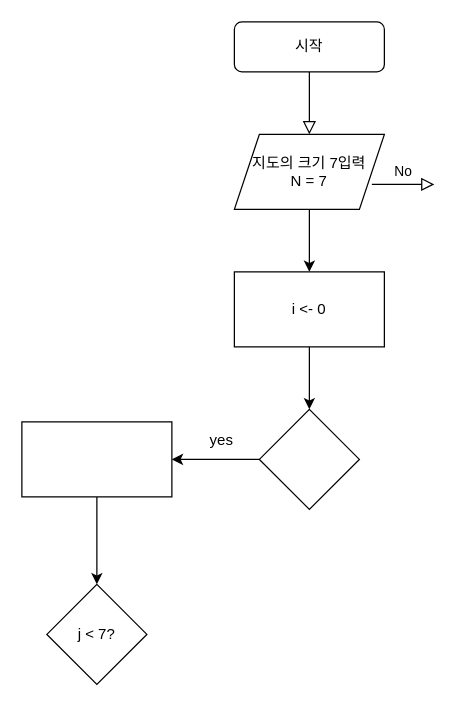
Image size: 469x706. Some labels were removed from this diagram. Each missing label, with the centre of its shape:
i < 7?: pixel 308 458
j <- 0: pixel 96 459
